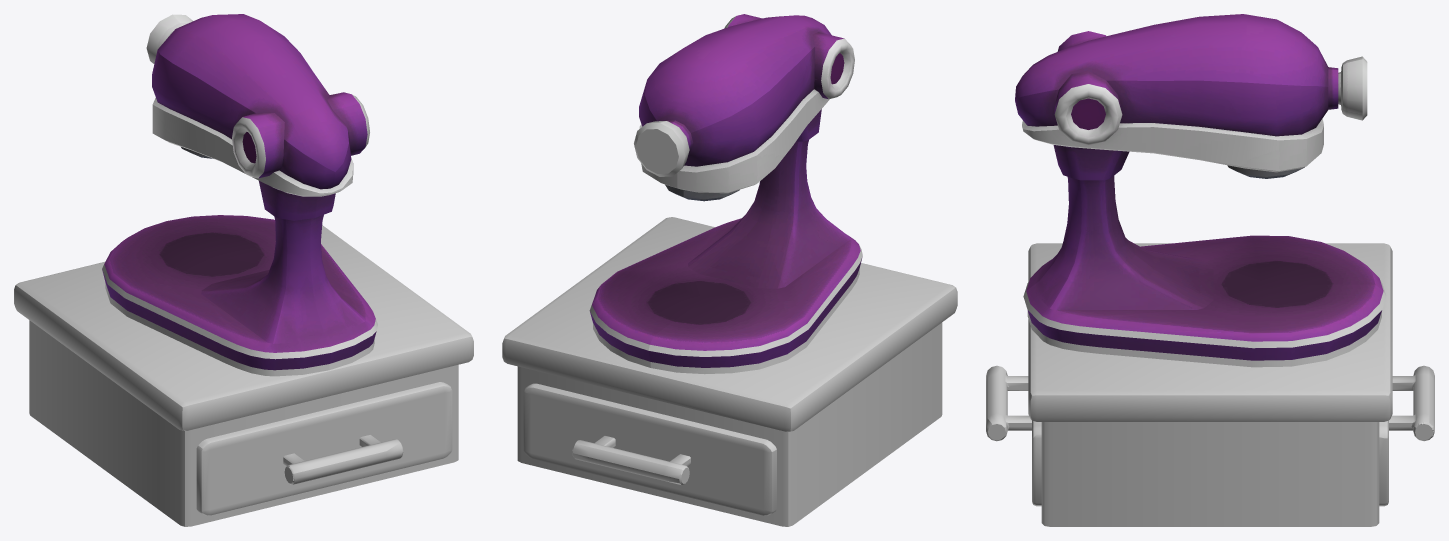
File: Mixer_Countertop2.fbx
3 renders of one model, left to right at view 1: azimuth 30°, elevation 25°; view 2: azimuth 150°, elevation 25°; view 3: azimuth 270°, elevation 25°, orthographic. The views are drawn at different scales.
Parts seen in each view (by area): view 1: m_sk_countertop_no_edge_01_0, m_cakemixer_01_Body; view 2: m_sk_countertop_no_edge_01_0, m_cakemixer_01_Body; view 3: m_cakemixer_01_Body, m_sk_countertop_no_edge_01_0.
Part boxes in pixels (x1,y1,x2,y2): m_sk_countertop_no_edge_01_0: (14,225,473,526); m_cakemixer_01_Body: (102,14,377,376); m_sk_countertop_no_edge_01_0: (502,217,957,526); m_cakemixer_01_Body: (589,14,862,374); m_cakemixer_01_Body: (1015,14,1386,367); m_sk_countertop_no_edge_01_0: (986,243,1434,526).
Bounding box in the file's own units: 1.2 × 1.48 × 1.57.
